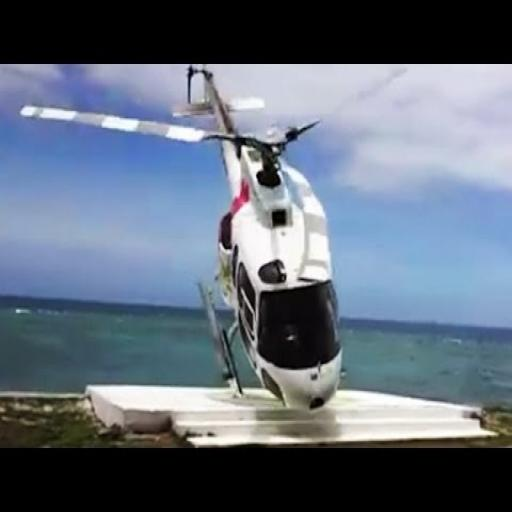helicopter: (19, 65, 355, 413)
